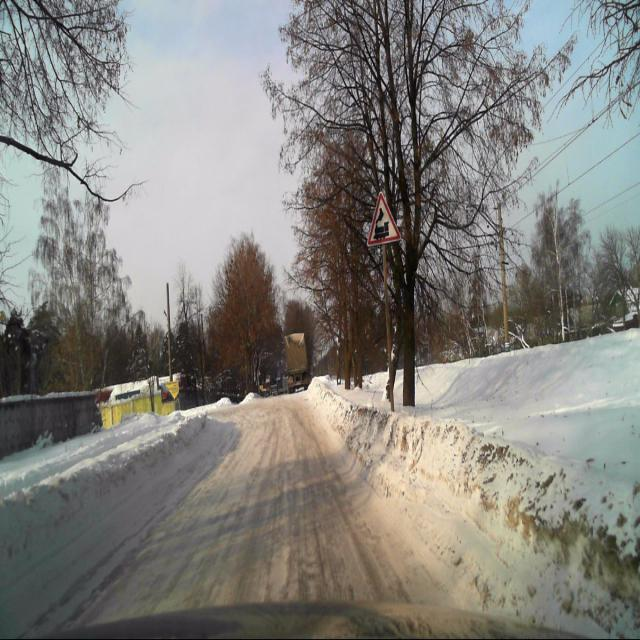object: (382, 246, 394, 414)
road sign: (367, 191, 401, 245)
